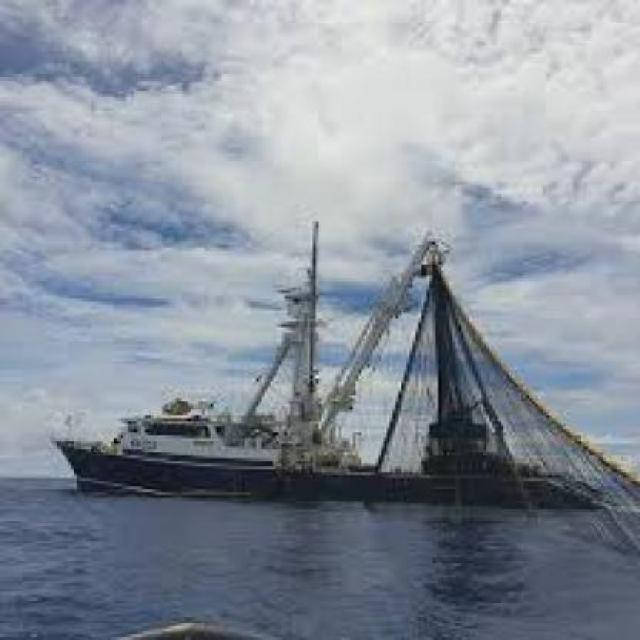fish-b: (46, 212, 639, 527)
